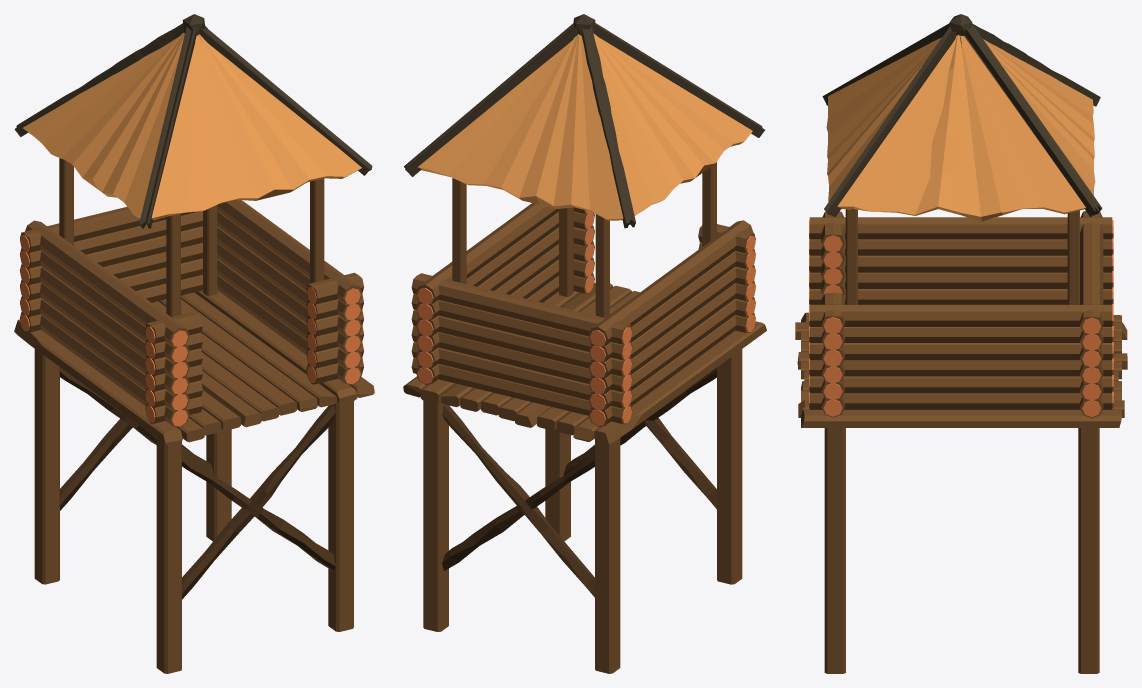
File: Wood_Tower_1_Black.fbx
3 views of the same model, side by side, from view 1: azimuth 30°, elevation 25°; view 2: azimuth 150°, elevation 25°; view 3: azimuth 270°, elevation 25° (orthographic). The views are drawn at different scales.
Parts seen in each view (by area): view 1: Cube.388, Cylinder.112, Cube.390, Cylinder.111, Cylinder.113, Cube.368, Cube.371, Cube.369, Cube.382, Cylinder.109, Cylinder.115, Cylinder.114 (+23 smaller); view 2: Cube.387, Cylinder.113, Cylinder.112, Cube.390, Cylinder.111, Cube.371, Cube.368, Cube.370, Cube.382, Cylinder.108, Cube.391, Cube.393 (+21 smaller); view 3: Cylinder.111, Cube.389, Cylinder.112, Cube.388, Cube.372, Cube.387, Cube.369, Cube.370, Cylinder.113, Cube.391, Cube.392, Cylinder.119 (+9 smaller).
Boxes of the visible parts, x1,y1,x2,y2 form: Cube.388: (151,34,361,220); Cylinder.112: (25,220,189,427); Cube.390: (23,33,184,218); Cylinder.111: (217,199,362,385); Cylinder.113: (20,207,202,332); Cube.368: (156,438,181,673); Cube.371: (34,349,59,584); Cube.369: (328,401,353,631); Cube.382: (14,319,182,444); Cylinder.109: (182,404,335,599); Cylinder.115: (306,272,363,384); Cylinder.114: (145,312,202,423); Cube.387: (418,34,623,220); Cylinder.113: (411,273,632,424); Cylinder.112: (588,220,753,426); Cube.390: (593,33,752,215); Cylinder.111: (415,203,558,384); Cube.371: (595,438,620,673); Cube.368: (717,349,742,584); Cube.370: (423,400,448,631); Cube.382: (594,321,766,444); Cylinder.108: (442,404,594,597); Cube.391: (404,23,578,176); Cube.393: (582,26,635,228); Cylinder.111: (809,304,1112,409); Cube.389: (837,35,1085,221); Cylinder.112: (809,217,1112,304); Cube.388: (826,37,941,201); Cube.372: (801,410,1121,427); Cube.387: (983,39,1095,195); Cube.369: (824,428,845,673); Cube.370: (1078,428,1099,673); Cylinder.113: (1079,211,1103,418); Cube.391: (965,24,1102,216); Cube.392: (824,26,956,216); Cylinder.119: (823,317,842,416).
Size of the model in its own units: 735 by 1771 by 871.
